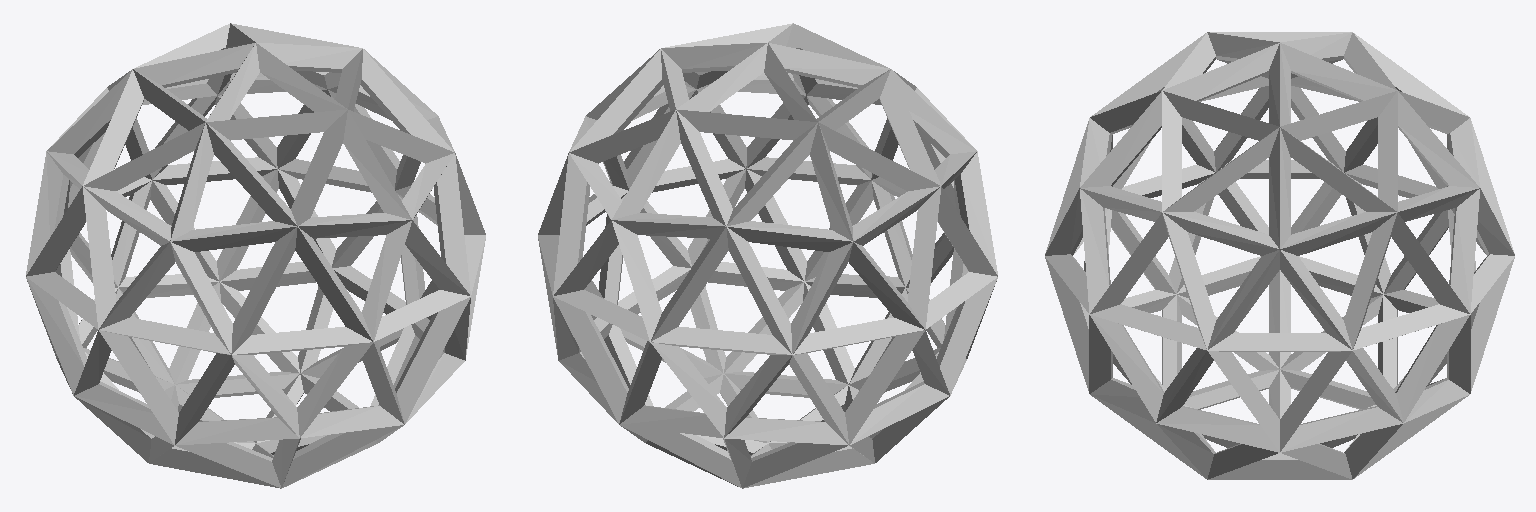
The model's file is sponge.obj.
The picture shows the model from 3 angles: view 1: azimuth 30°, elevation 25°; view 2: azimuth 150°, elevation 25°; view 3: azimuth 270°, elevation 25°; orthographic projection.
Parts seen in each view (by area): view 1: Icosphere_Icosphere.001; view 2: Icosphere_Icosphere.001; view 3: Icosphere_Icosphere.001.
Boxes of the visible parts, x1=… form: Icosphere_Icosphere.001: x1=26, y1=23, x2=485, y2=488; Icosphere_Icosphere.001: x1=538, y1=23, x2=997, y2=488; Icosphere_Icosphere.001: x1=1045, y1=32, x2=1514, y2=479.
Bounding box in the file's own units: 2.53 × 2.66 × 2.66.